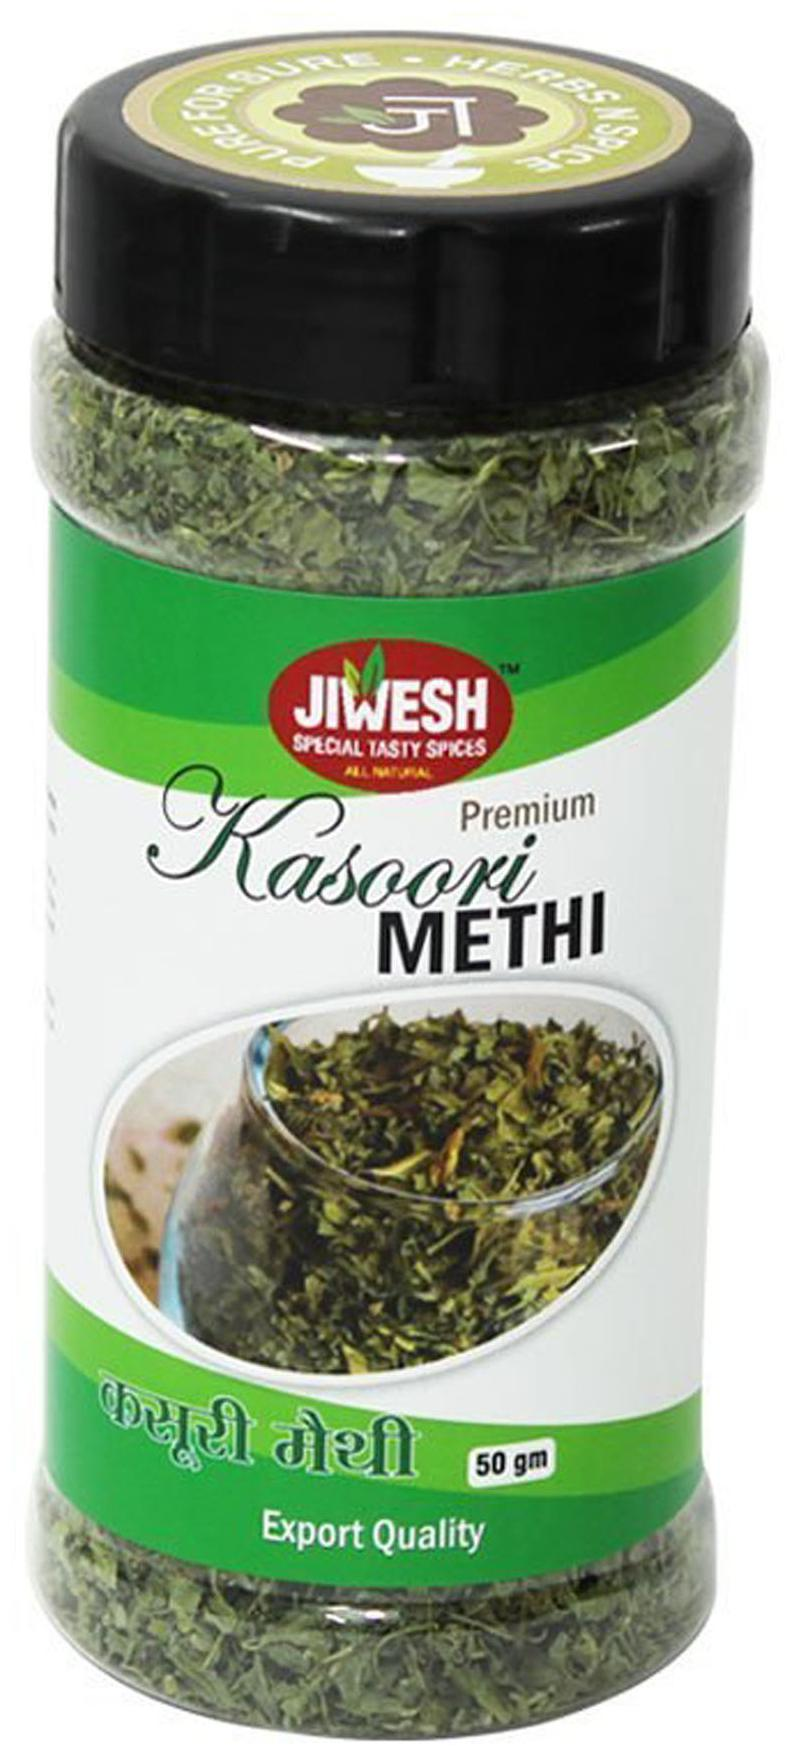JAR: (21, 17, 783, 1745)
